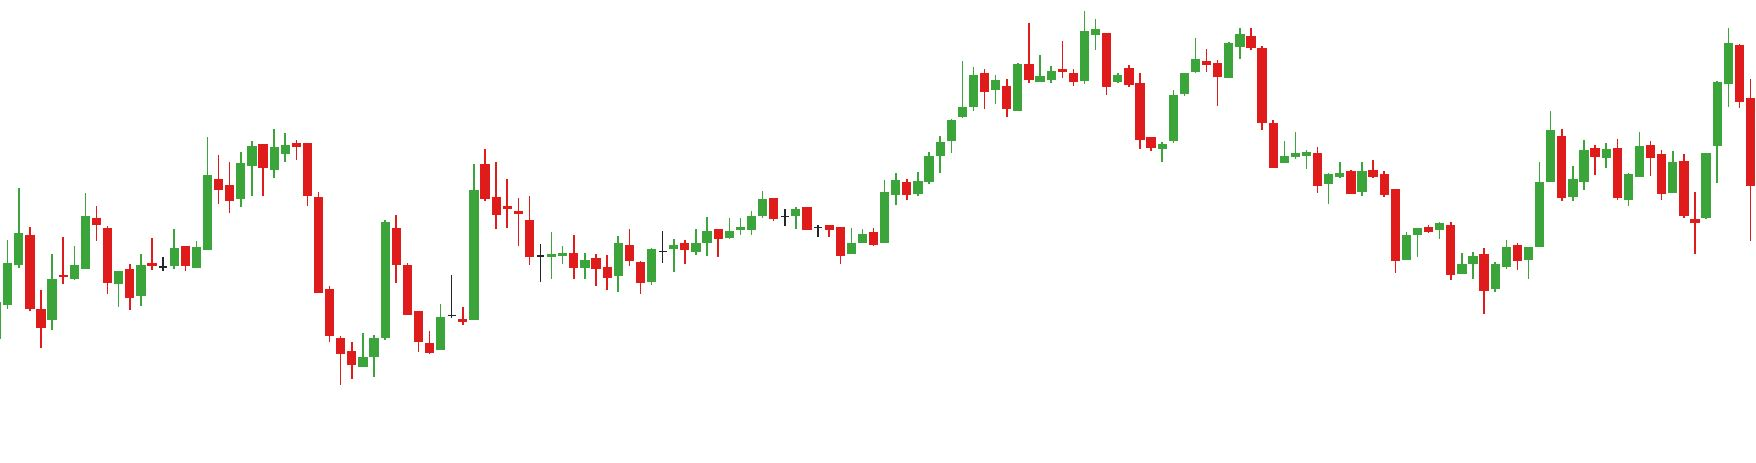buy: (32, 258, 379, 387)
sell: (1022, 7, 1111, 74)
